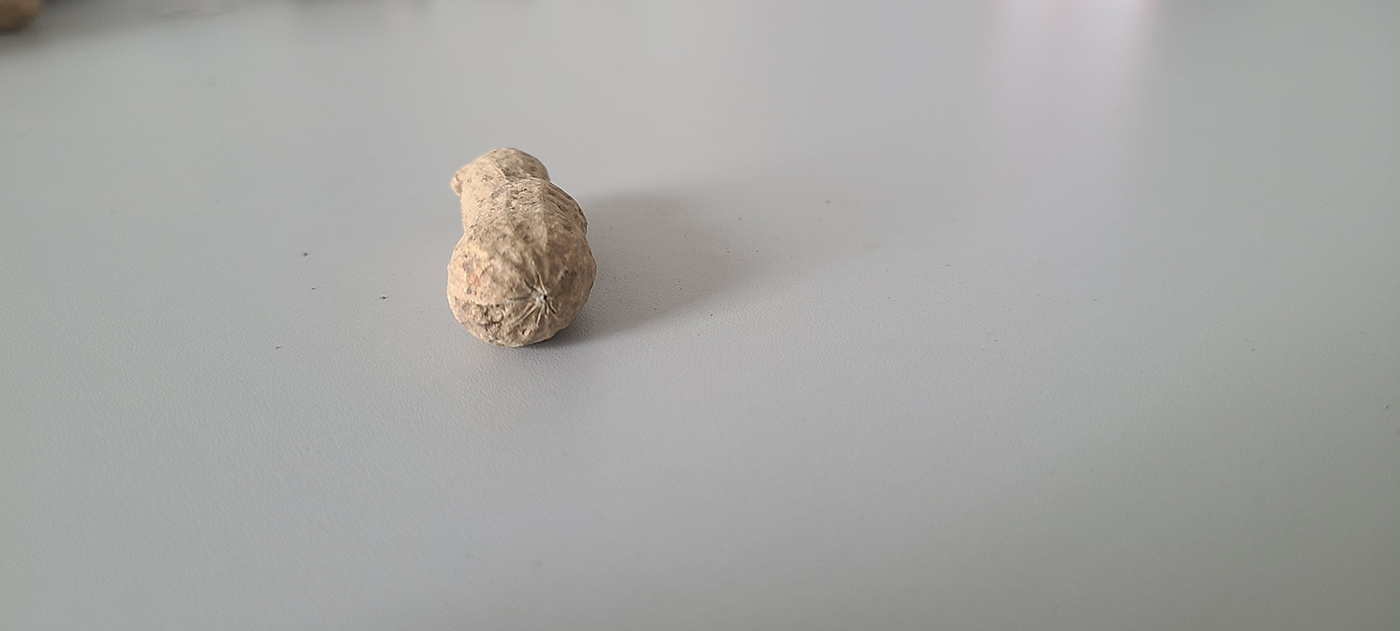h: (439, 146, 597, 348)
